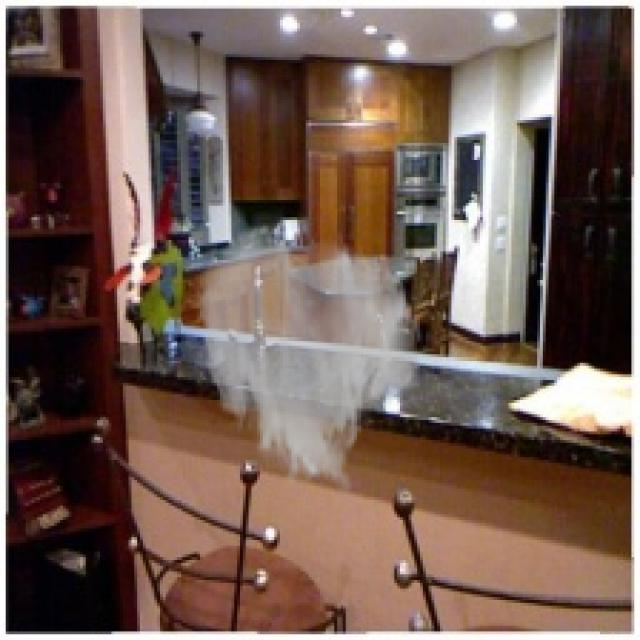smoke: (194, 220, 426, 497)
